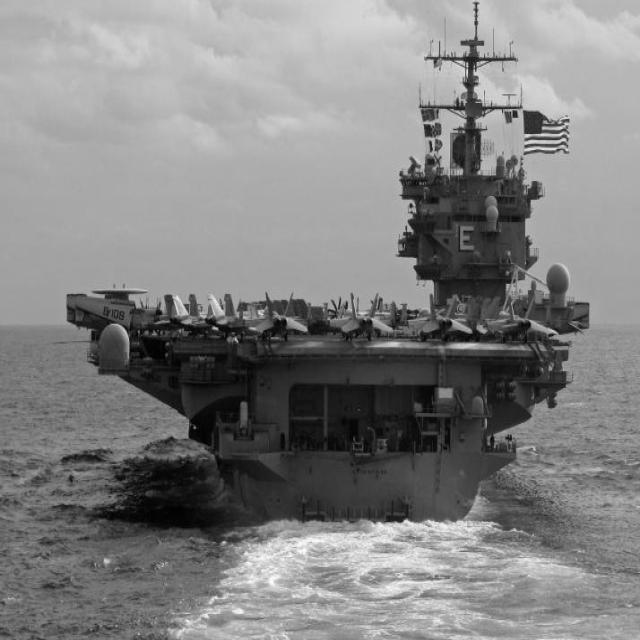Portanaves: (62, 1, 598, 536)
